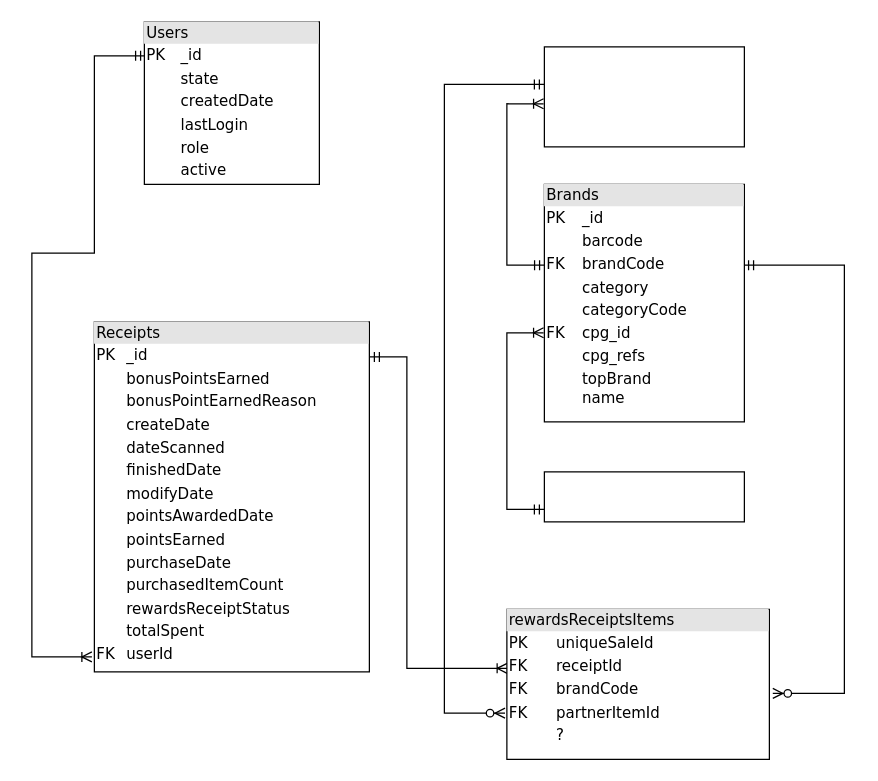
Some shapes in this 878 by 781 pixel diagram are drawn without their labels. The shapes that lost their labels are listed below. From the top down, each one's centre as x and y in pixels, then its label:
At point (643, 96): "Products PK itemId FK brand ?".
At point (643, 496): "CPG PK ?".
